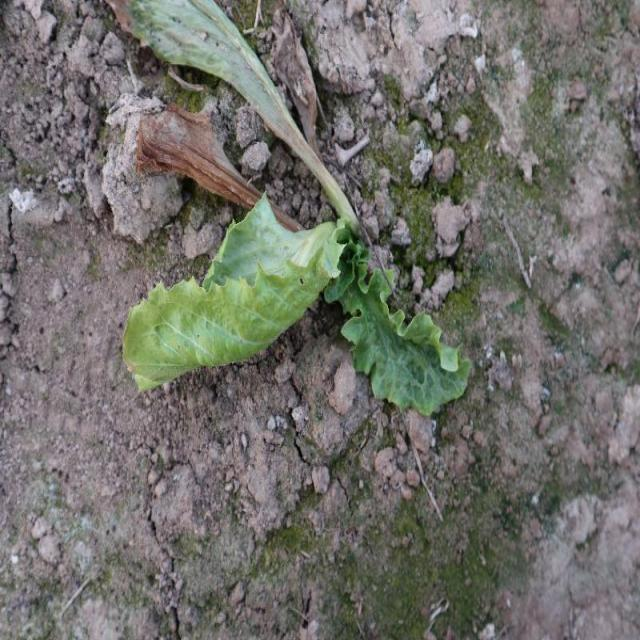crop: (126, 207, 477, 431)
